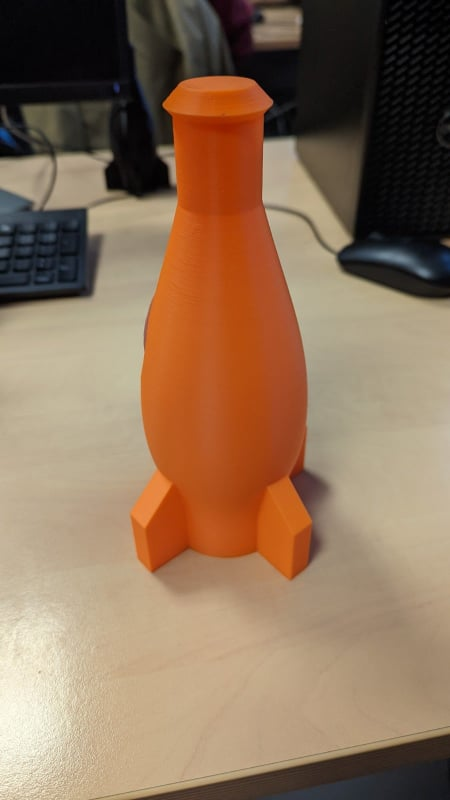bottle: (123, 63, 322, 592)
